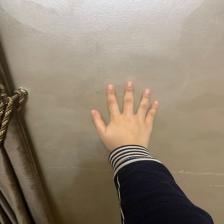five: (86, 82, 168, 150)
